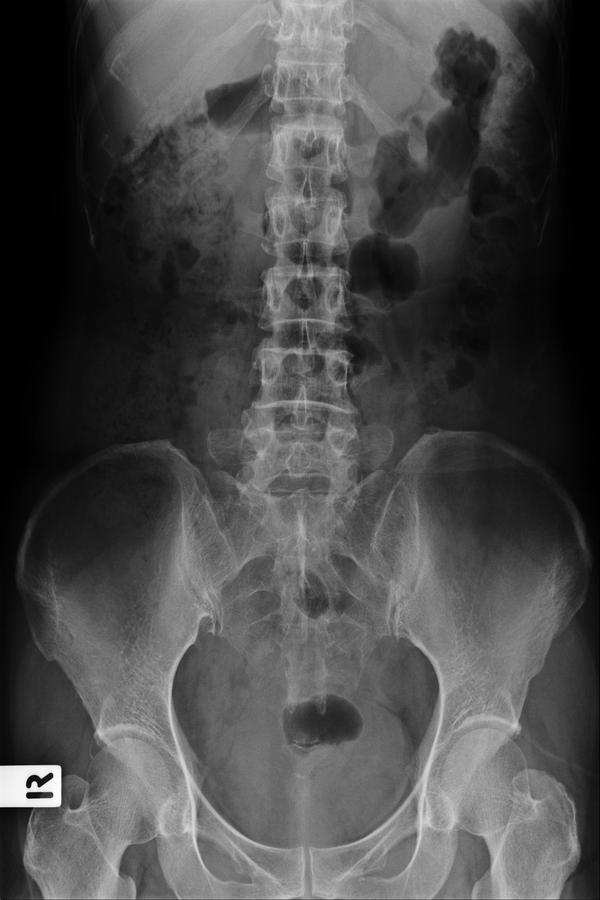not lumbar scoliosis: (248, 171, 356, 544)
